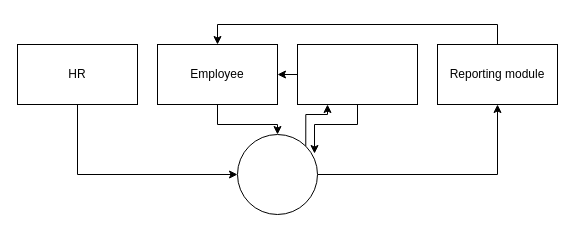
Image size: 575x232. Some labels were removed from this diagram. Each missing label, with the centre of its shape:
"Database (SQLite)" belongs at [357,74].
"HR System Personnel Accounting" belongs at [277,174].
